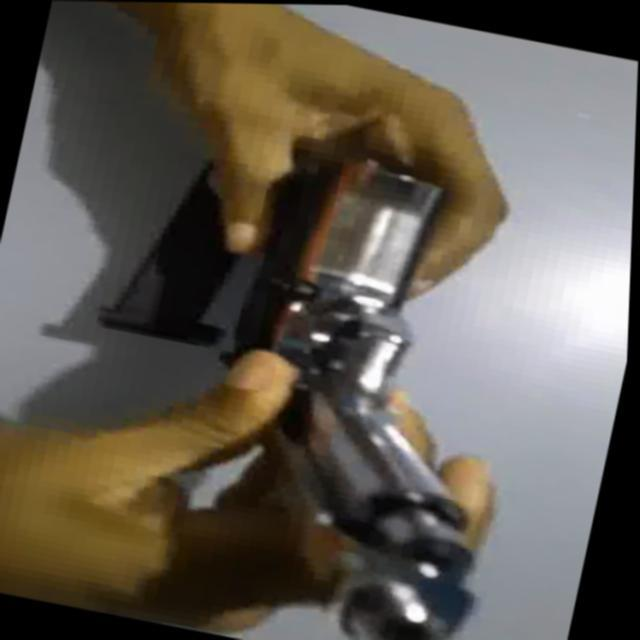weapon: (39, 92, 568, 640)
